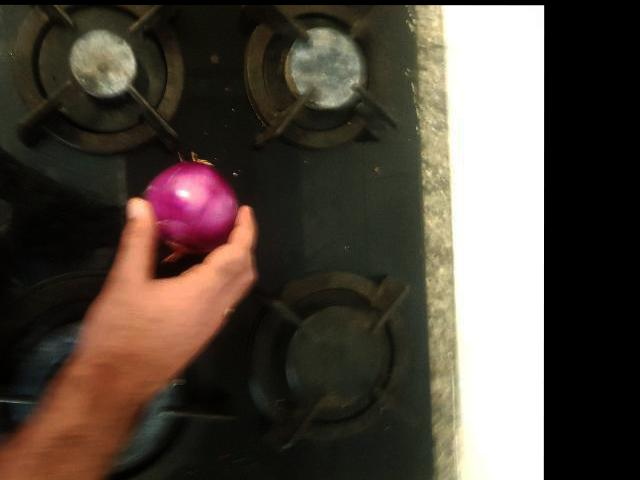onion: (298, 81, 381, 182)
